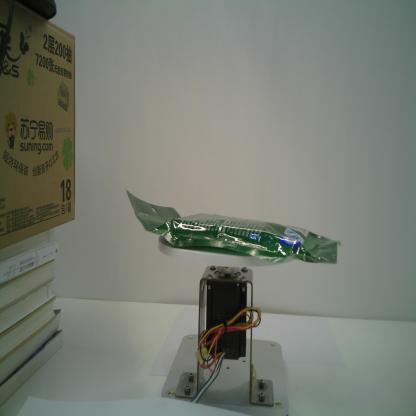Dried Food: (124, 187, 341, 265)
